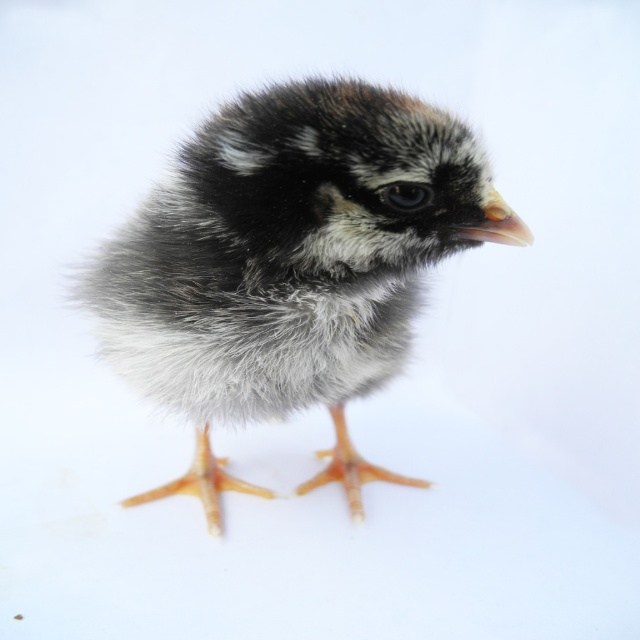Chicken: (67, 71, 519, 526)
